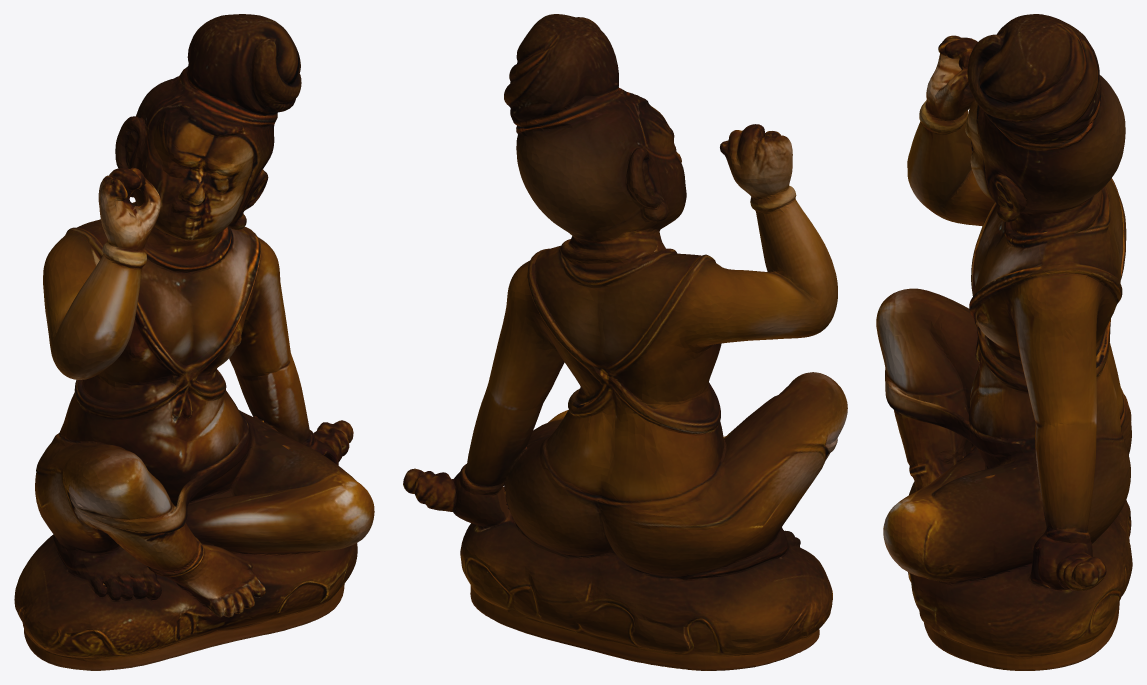
The picture shows the model from 3 angles, left to right: view 1: azimuth 30°, elevation 25°; view 2: azimuth 150°, elevation 25°; view 3: azimuth 270°, elevation 25°; orthographic projection. The views are drawn at different scales.
Parts seen in each view (by area): view 1: textured_mesh; view 2: textured_mesh; view 3: textured_mesh.
Boxes of the visible parts, x1,y1,x2,y2 form: textured_mesh: (14, 14, 374, 670); textured_mesh: (403, 14, 847, 670); textured_mesh: (876, 14, 1132, 670).
Bounding box in the file's own units: 1.34 × 1.99 × 0.7635.
1 material, 1 textured.
